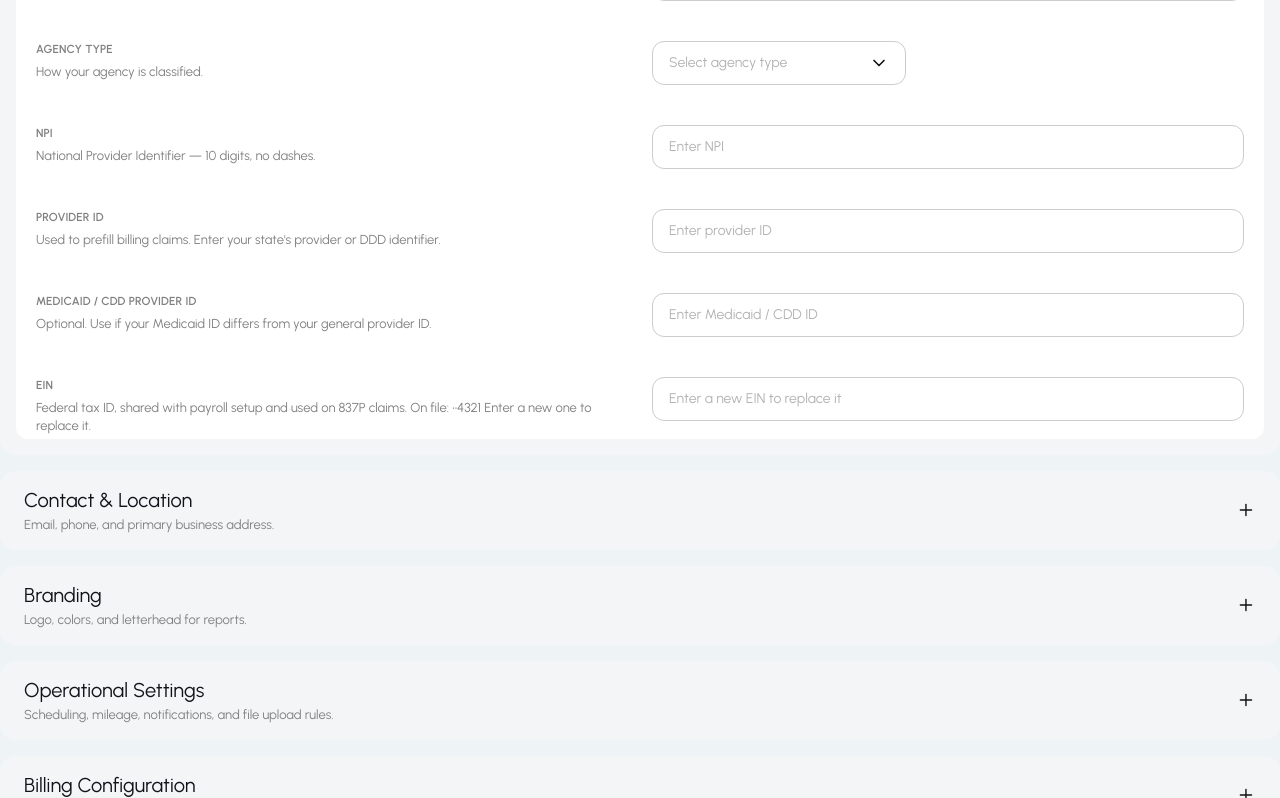
Scenario: AgencyInfoTab EIN › shows only the last 4 digits and saves a new EIN through the protected payroll path
(page scrolled)
Check: the text "On file: ••4321" is shown, box [36,400,592,433]
Type "98-7654321" into the field labelled "EIN".
click(948, 399); type("98-7654321")  # box [652,377,1244,421]
(page scrolled)
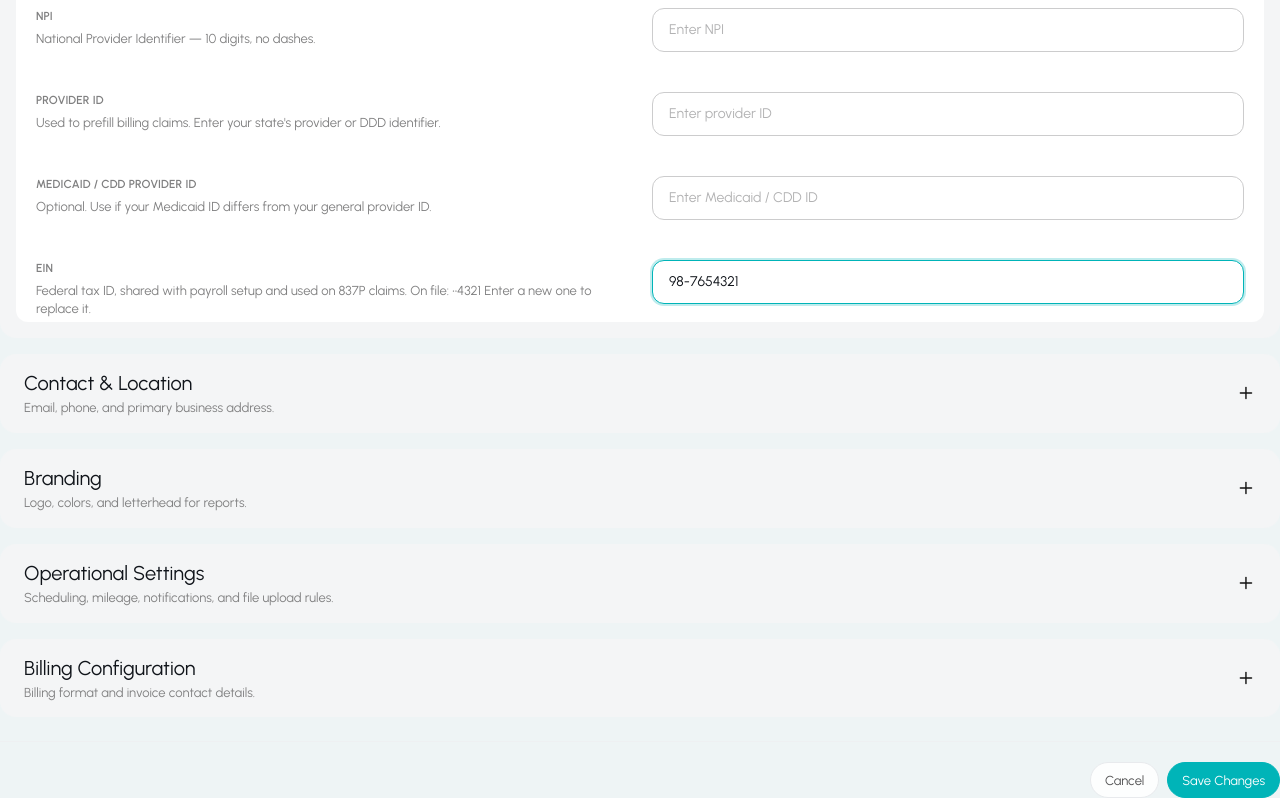
Click the button "Save Changes".
click(1224, 780)  # box [1167,762,1279,797]
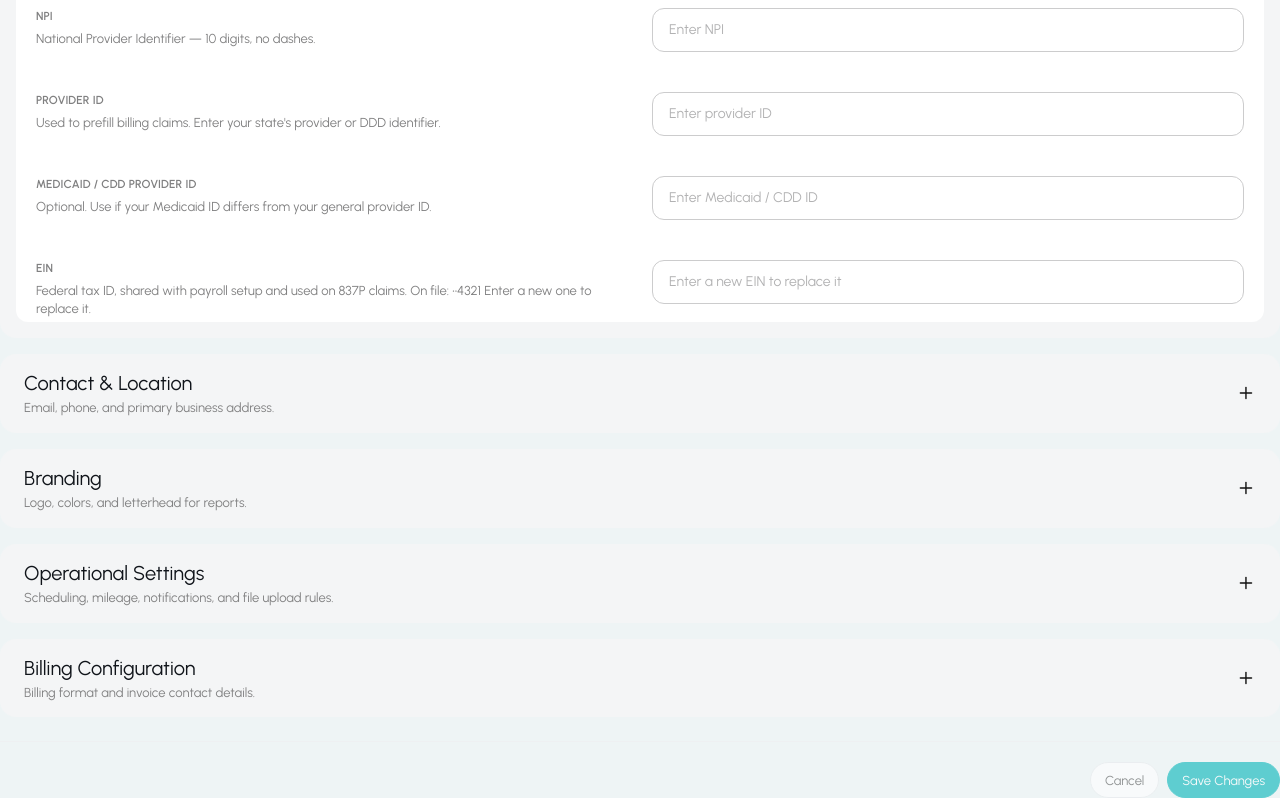
Check: the text "7654321" is not shown
Check: the field labelled "EIN" is empty, box [652,260,1244,304]
